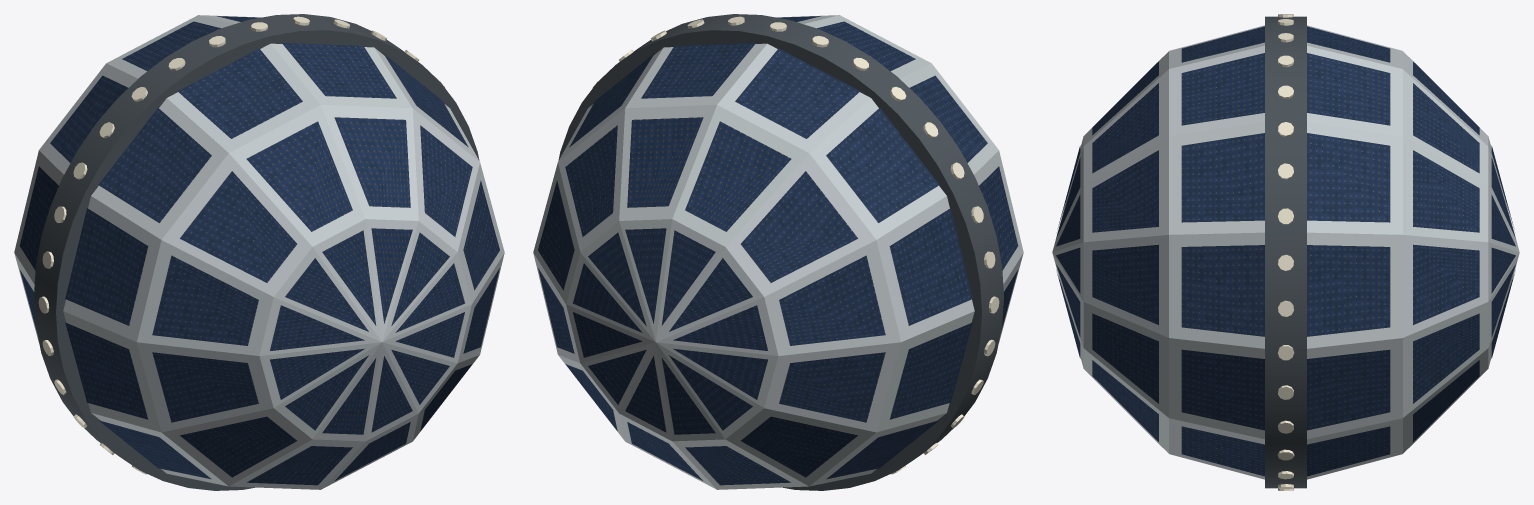
Rendered from ref-tsx-340.glb.
3 renders of one model, left to right at view 1: azimuth 30°, elevation 25°; view 2: azimuth 150°, elevation 25°; view 3: azimuth 270°, elevation 25°, orthographic. The views are drawn at different scales.
Visible parts, largest first — view 1: Body-mounted solar cells, Faceted shell, Equatorial antenna band; view 2: Body-mounted solar cells, Faceted shell, Equatorial antenna band; view 3: Body-mounted solar cells, Faceted shell, Equatorial antenna band.
Part boxes in pixels (x1,y1,x2,y2): Body-mounted solar cells: (19, 16, 499, 485); Faceted shell: (14, 15, 504, 489); Equatorial antenna band: (34, 14, 479, 490); Body-mounted solar cells: (538, 16, 1018, 485); Faceted shell: (533, 15, 1023, 489); Equatorial antenna band: (558, 14, 1003, 490); Body-mounted solar cells: (1056, 26, 1515, 476); Faceted shell: (1052, 25, 1519, 479); Equatorial antenna band: (1265, 16, 1306, 488).
Bounding box in the file's own units: 0.8976 × 0.8976 × 0.88.
4 materials, 1 textured.
